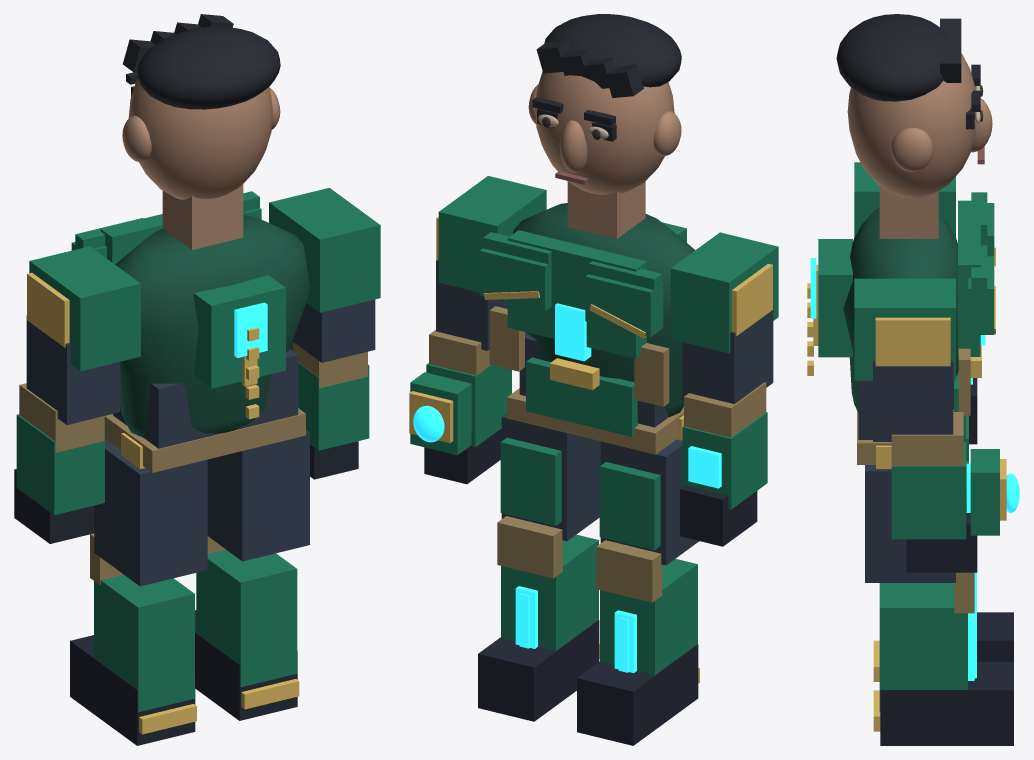
File: riftwalker.glb
3 views of the same model, side by side, from view 1: azimuth 30°, elevation 25°; view 2: azimuth 150°, elevation 25°; view 3: azimuth 270°, elevation 25° (orthographic). The views are drawn at different scales.
Parts seen in each view (by area): view 1: TAPERED HUMAN ATHLETIC SILHOUETTE, athletic muscular thigh -1, formed green shin guard -1, formed green shin guard 1, organic human face and skull, athletic muscular thigh 1, closely cropped sculpted top hair, subtle deltoid green plate 1, subtle deltoid green plate -1, narrow athletic back power pack, slim emerald forearm bracer -1, upper arm dark reinforced fabric -1 (+19 smaller); view 2: organic human face and skull, TAPERED HUMAN ATHLETIC SILHOUETTE, subtle deltoid green plate -1, tactical high grip boots -1, tactical high grip boots 1, subtle deltoid green plate 1, formed green shin guard -1, formed green shin guard 1, emerald armored center chest, closely cropped sculpted top hair, upper arm dark reinforced fabric -1, emerald waist brace (+37 smaller); view 3: organic human face and skull, formed green shin guard 1, tactical high grip boots 1, closely cropped sculpted top hair, TAPERED HUMAN ATHLETIC SILHOUETTE, upper arm dark reinforced fabric 1, slim emerald forearm bracer 1, subtle deltoid green plate 1, athletic muscular thigh 1, narrow athletic back power pack, gold thin outer shoulder stripe 1, emerald armored center chest (+23 smaller).
Part boxes in pixels (x1,y1,x2,y2): TAPERED HUMAN ATHLETIC SILHOUETTE: [115, 215, 310, 436]; athletic muscular thigh -1: [94, 438, 207, 586]; formed green shin guard -1: [94, 574, 194, 712]; formed green shin guard 1: [196, 549, 297, 687]; organic human face and skull: [128, 77, 273, 199]; athletic muscular thigh 1: [207, 430, 309, 561]; closely cropped sculpted top hair: [137, 26, 280, 109]; subtle deltoid green plate 1: [269, 188, 380, 312]; subtle deltoid green plate -1: [29, 246, 140, 371]; narrow athletic back power pack: [194, 275, 285, 388]; slim emerald forearm bracer -1: [16, 414, 104, 515]; upper arm dark reinforced fabric -1: [26, 315, 120, 424]; organic human face and skull: [534, 71, 674, 194]; TAPERED HUMAN ATHLETIC SILHOUETTE: [513, 203, 695, 416]; subtle deltoid green plate -1: [670, 232, 778, 353]; tactical high grip boots -1: [577, 644, 698, 745]; tactical high grip boots 1: [478, 620, 599, 721]; subtle deltoid green plate 1: [438, 176, 546, 292]; formed green shin guard -1: [600, 558, 697, 674]; formed green shin guard 1: [501, 534, 598, 650]; emerald armored center chest: [507, 230, 646, 358]; closely cropped sculpted top hair: [544, 14, 681, 87]; upper arm dark reinforced fabric -1: [682, 305, 773, 403]; emerald waist brace: [526, 357, 637, 436]; organic human face and skull: [847, 53, 976, 198]; formed green shin guard 1: [879, 583, 967, 711]; tactical high grip boots 1: [880, 662, 1013, 745]; closely cropped sculpted top hair: [836, 14, 947, 101]; TAPERED HUMAN ATHLETIC SILHOUETTE: [843, 207, 958, 412]; upper arm dark reinforced fabric 1: [873, 360, 953, 441]; slim emerald forearm bracer 1: [891, 442, 966, 539]; subtle deltoid green plate 1: [854, 278, 955, 380]; athletic muscular thigh 1: [865, 465, 955, 582]; narrow athletic back power pack: [818, 239, 852, 357]; gold thin outer shoulder stripe 1: [875, 317, 950, 366]; emerald armored center chest: [958, 200, 980, 356].
Bounding box in the file's own units: 1.35 × 2.81 × 0.7955.
